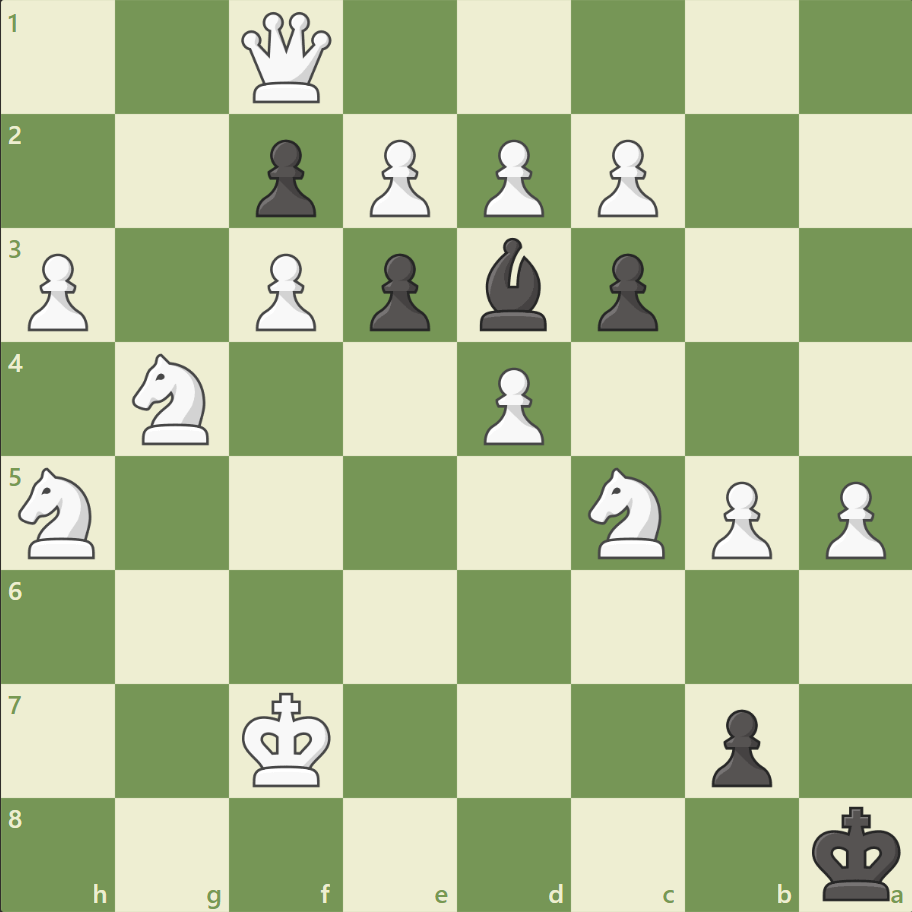K: (238, 685, 338, 793)
N: (124, 348, 222, 450), (579, 461, 676, 564), (11, 461, 108, 564)
P: (701, 473, 776, 564), (474, 359, 549, 450), (247, 246, 322, 337), (20, 246, 95, 337), (474, 132, 549, 223), (815, 473, 889, 564), (588, 132, 662, 223), (361, 132, 435, 223)
Q: (237, 9, 336, 108)
b: (471, 233, 555, 336)
k: (806, 798, 906, 906)
p: (701, 700, 776, 791), (247, 132, 322, 223), (588, 246, 662, 337), (361, 246, 435, 337)
